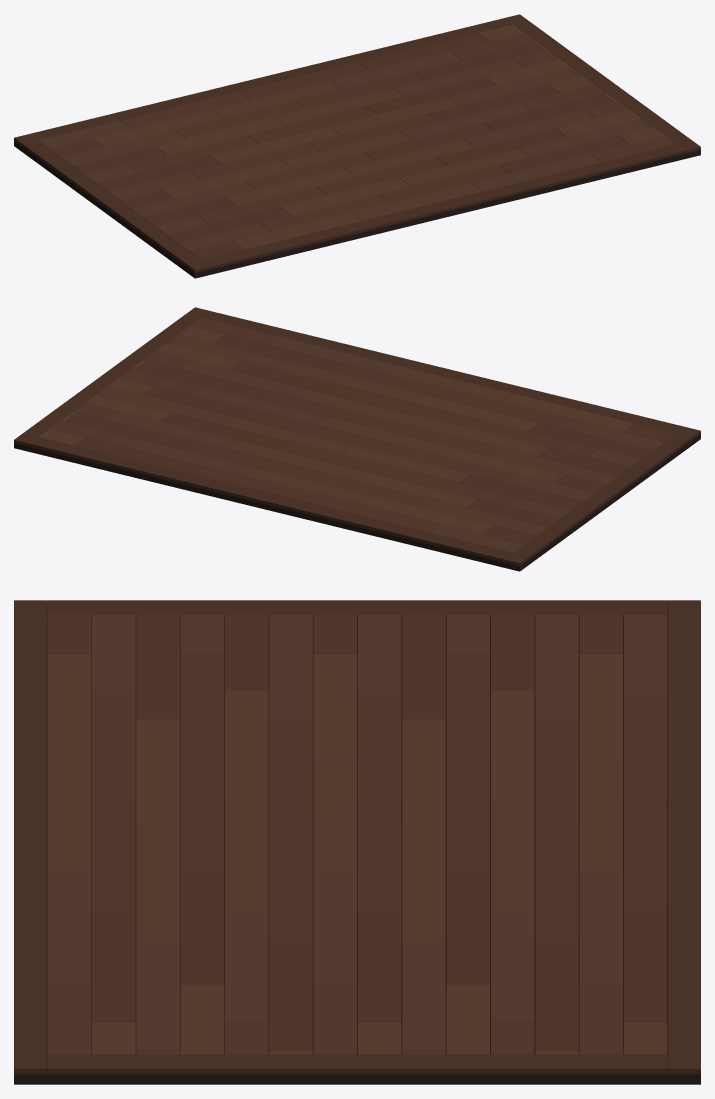
Rendered from FloorBackground.fbx.
3 views of the same model, one above another, from view 1: azimuth 30°, elevation 25°; view 2: azimuth 150°, elevation 25°; view 3: azimuth 270°, elevation 25° (orthographic). The views are drawn at different scales.
Parts seen in each view (by area): view 1: Border_Front, Border_Rear, Floor_ShadowSubstrate, Border_Left, Border_Right, Board_R02_P01, Board_R04_P01, Board_R07_P01, Board_R08_P02, Board_R09_P03, Board_R10_P03, Board_R11_P02 (+59 smaller); view 2: Border_Rear, Border_Front, Floor_ShadowSubstrate, Border_Left, Border_Right, Board_R05_P02, Board_R02_P02, Board_R04_P02, Board_R05_P01, Board_R06_P02, Board_R06_P03, Board_R07_P01 (+59 smaller); view 3: Border_Front, Border_Rear, Floor_ShadowSubstrate, Border_Right, Border_Left, Board_R00_P02, Board_R03_P02, Board_R13_P01, Board_R13_P03, Board_R03_P03, Board_R06_P01, Board_R06_P02 (+59 smaller).
Boxes of the visible parts, x1,y1,x2,y2 form: Border_Front: [186, 140, 700, 273]; Border_Rear: [14, 14, 527, 146]; Floor_ShadowSubstrate: [14, 141, 700, 278]; Border_Left: [23, 140, 200, 266]; Border_Right: [514, 20, 691, 143]; Board_R02_P01: [280, 178, 410, 215]; Board_R04_P01: [225, 168, 355, 205]; Board_R07_P01: [190, 142, 320, 180]; Board_R08_P02: [329, 97, 459, 134]; Board_R09_P03: [366, 77, 496, 114]; Board_R10_P03: [394, 59, 524, 96]; Board_R11_P02: [294, 71, 424, 109]; Border_Rear: [14, 433, 528, 566]; Border_Front: [187, 307, 700, 439]; Floor_ShadowSubstrate: [14, 434, 700, 571]; Border_Left: [514, 433, 691, 559]; Border_Right: [23, 313, 200, 436]; Board_R05_P02: [255, 390, 385, 427]; Board_R02_P02: [290, 364, 420, 402]; Board_R04_P02: [298, 389, 428, 426]; Board_R05_P01: [375, 419, 504, 456]; Board_R06_P02: [314, 416, 444, 453]; Board_R06_P03: [195, 387, 325, 424]; Board_R07_P01: [382, 444, 512, 481]; Border_Front: [14, 600, 47, 1074]; Border_Rear: [667, 600, 700, 1074]; Floor_ShadowSubstrate: [14, 620, 700, 1084]; Border_Right: [47, 1054, 667, 1074]; Border_Left: [47, 600, 667, 619]; Board_R00_P02: [47, 764, 91, 874]; Board_R03_P02: [180, 764, 224, 874]; Board_R13_P01: [623, 690, 667, 800]; Board_R13_P03: [623, 911, 667, 1021]; Board_R03_P03: [180, 875, 224, 985]; Board_R06_P01: [313, 654, 357, 764]; Board_R06_P02: [313, 764, 357, 874].
Size of the model in its own units: 500 by 8 by 310.
